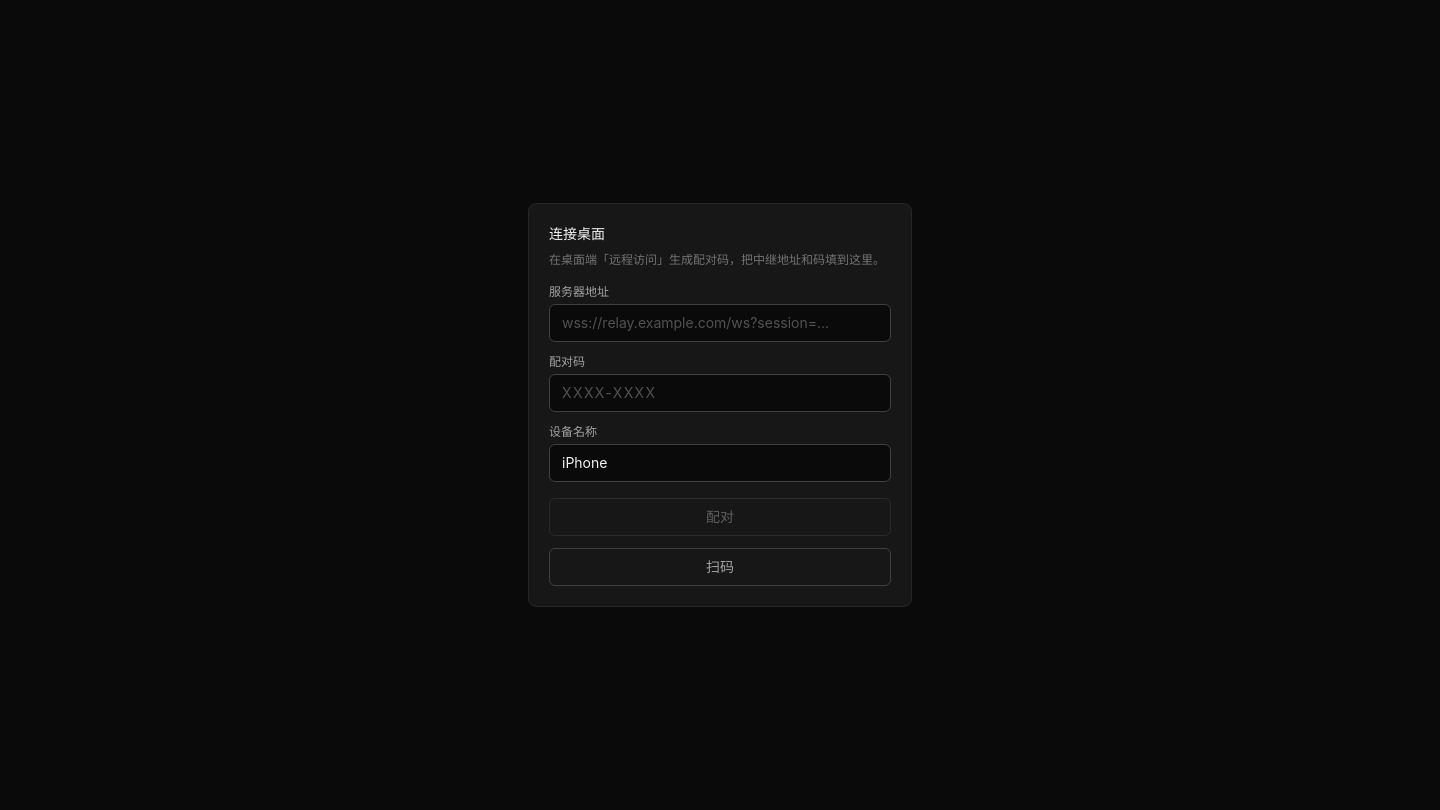
Test: PairingScreen QR scan › shows a message and does not redeem when the payload is not a pairing QR
Click the button "扫码".
click(720, 567)  # box [549,548,891,586]
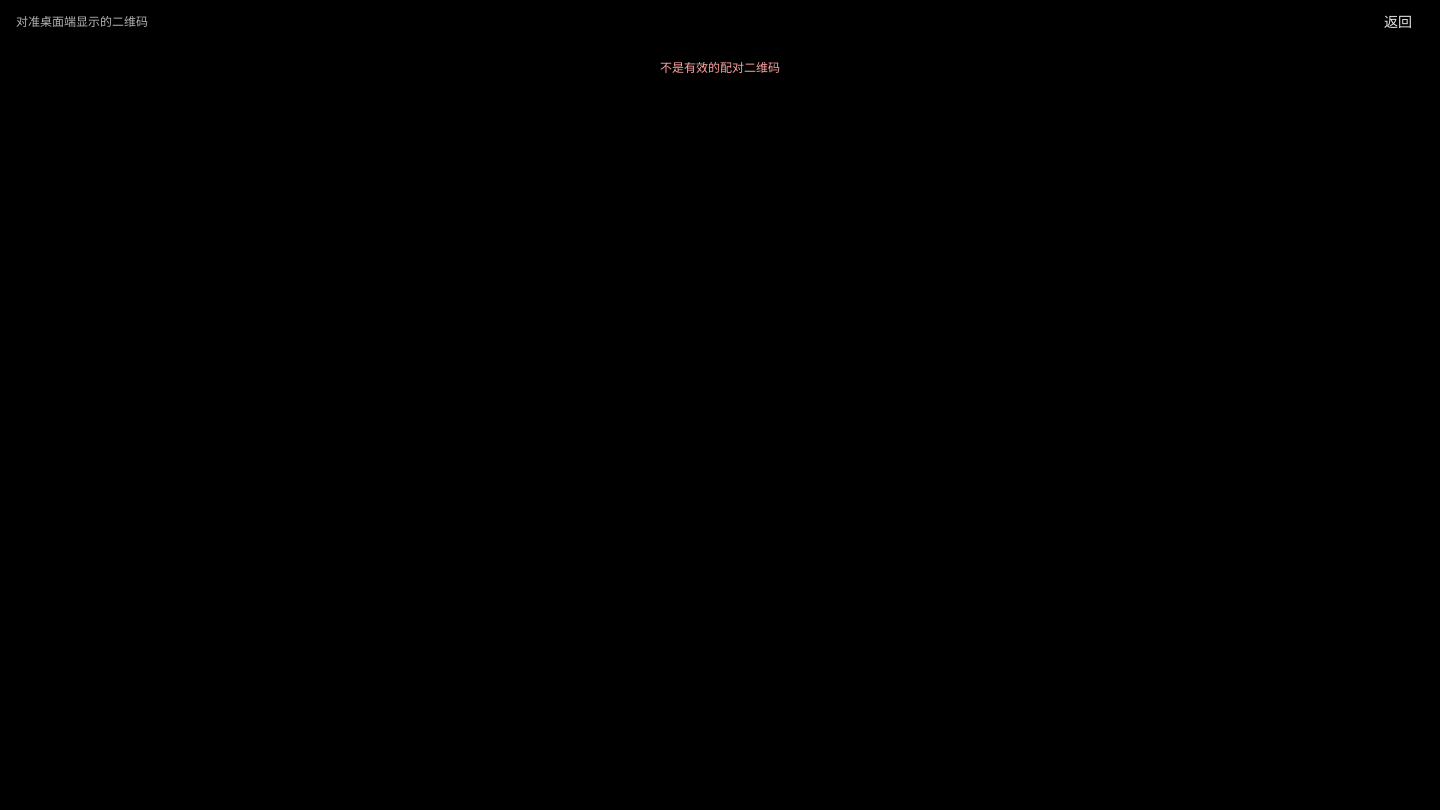
Now the message reads "不是有效的配对二维码", box [660,60,780,75]
